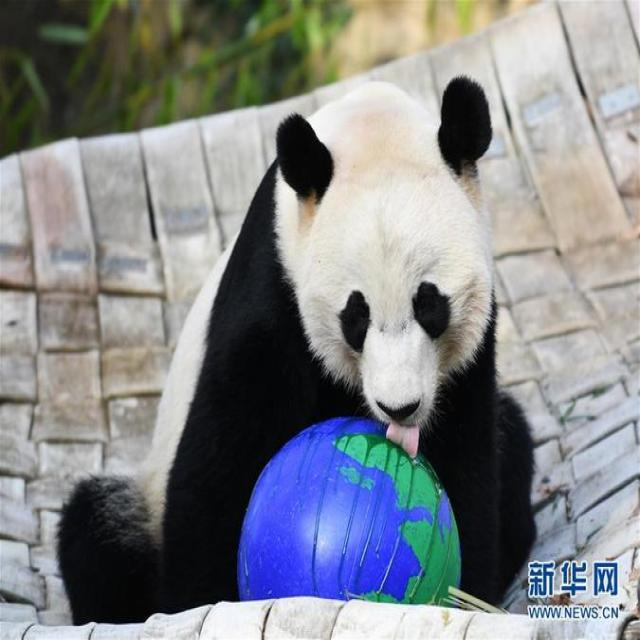panda: (106, 60, 521, 610)
